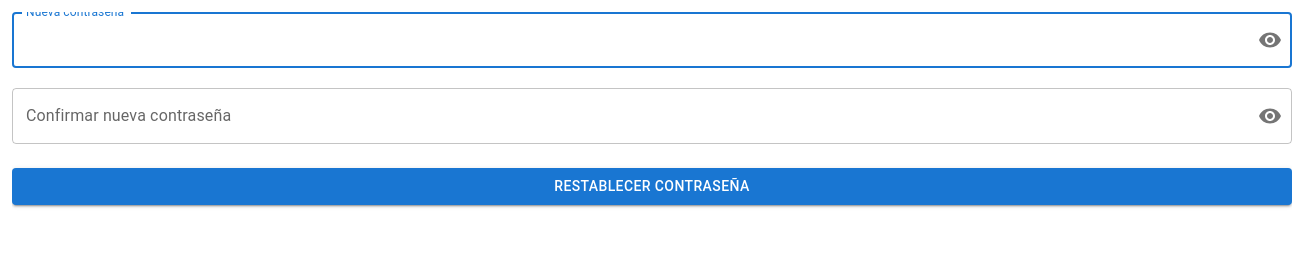
Test: ResetPasswordForm › form submission validation › should show validation error when new password is less than 8 characters
Type "Pass12" into the password field labelled "Nueva contraseña". click: point(627, 40)
box: top-left (12, 12), bottom-right (1242, 68)
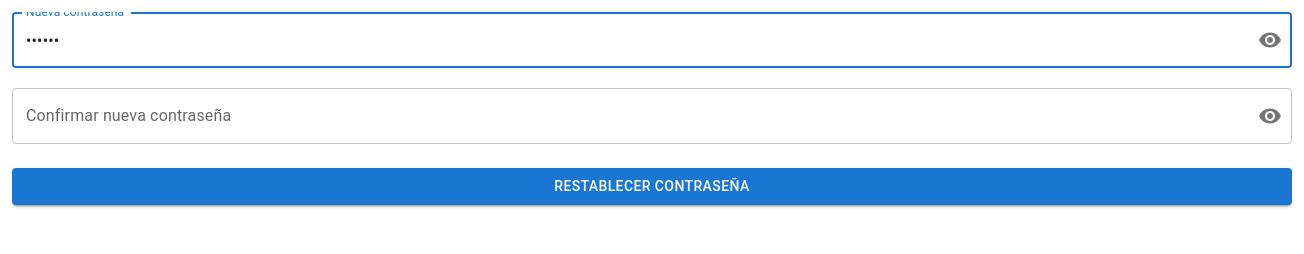
Type "Pass12" into the password field labelled "Confirmar nueva contraseña". click: point(627, 116)
box: top-left (12, 88), bottom-right (1242, 144)
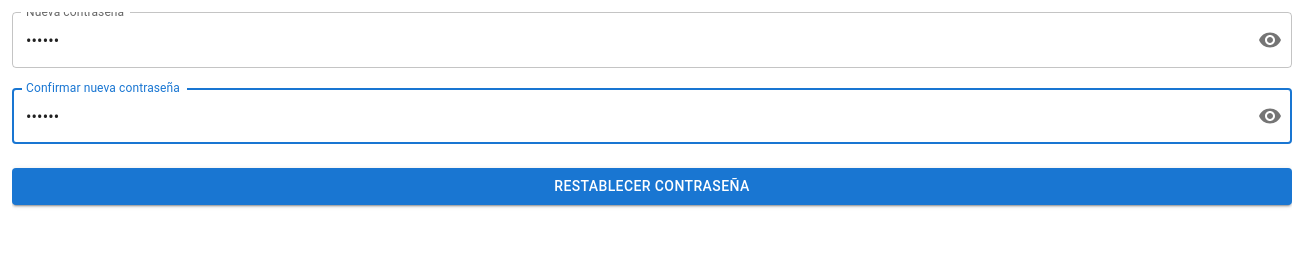
Click the button "Restablecer contraseña". click: point(652, 186)
box: top-left (12, 168), bottom-right (1292, 204)
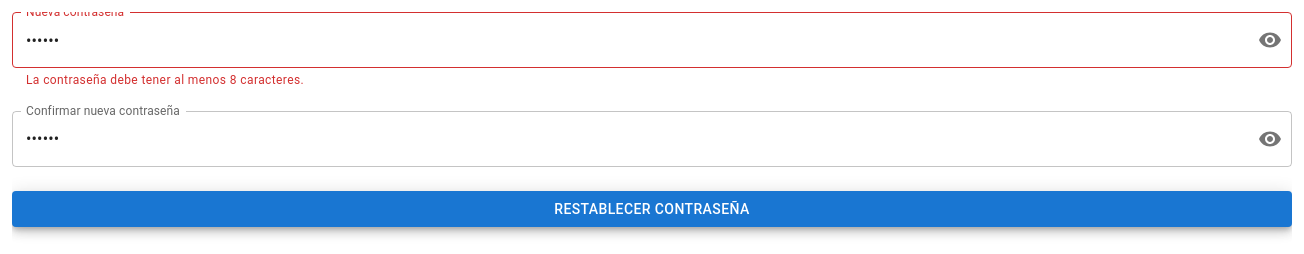
Now the text "La contraseña debe tener al menos 8 caracteres." is shown, box top-left (26, 73), bottom-right (304, 87)
